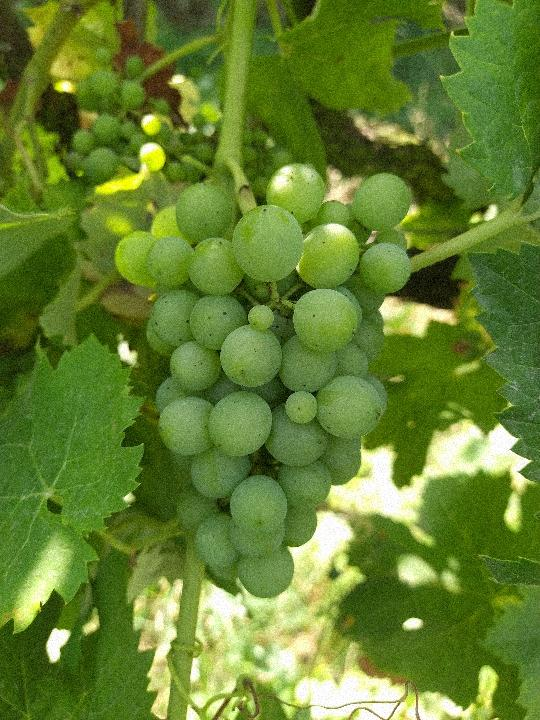grape: (115, 159, 411, 601)
